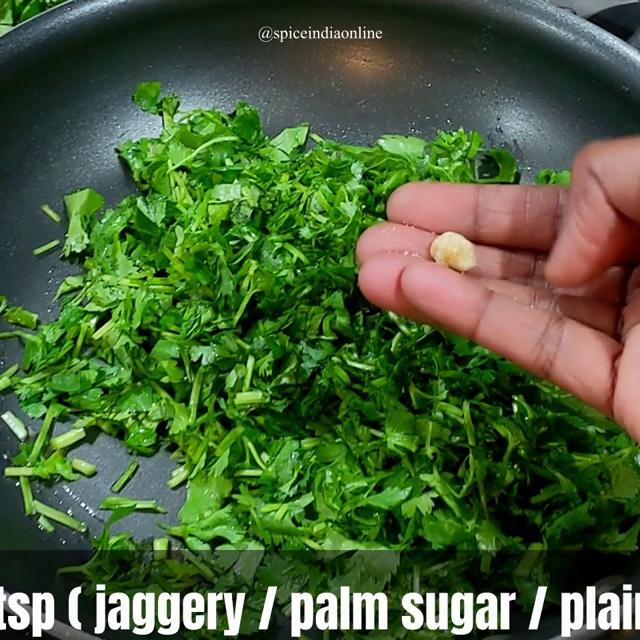cilantro: (81, 128, 351, 461)
